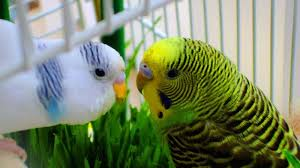budgie: (137, 36, 300, 168), (1, 40, 128, 130)
